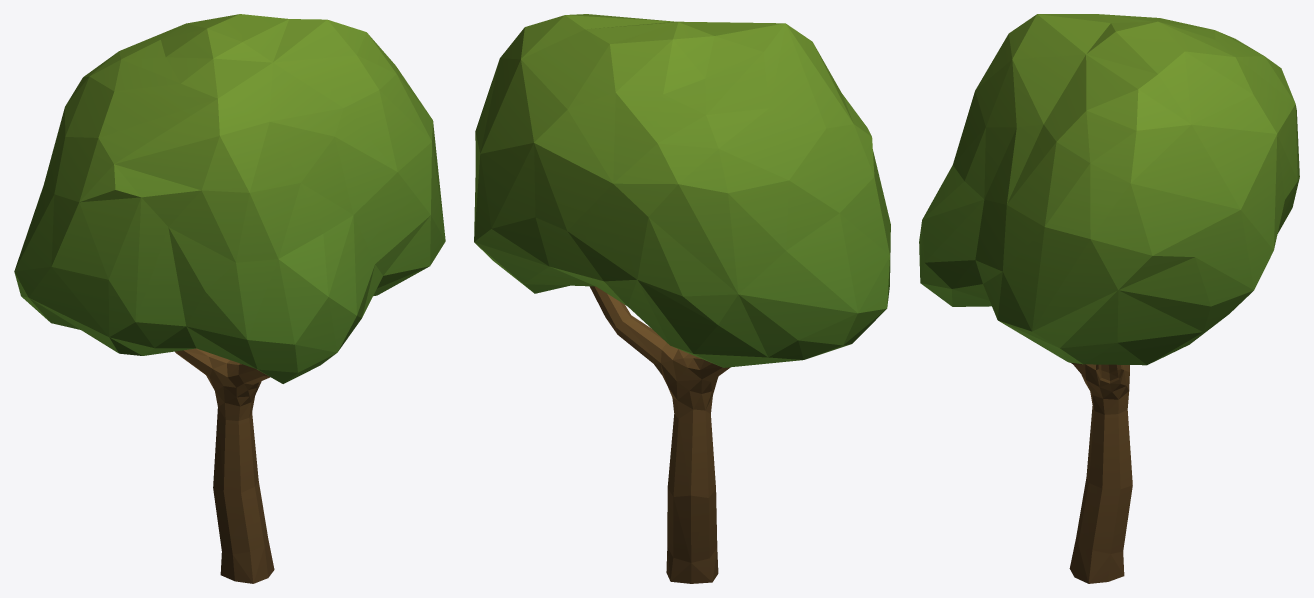
Rendered from Tree_06.glb.
3 views of the same model, side by side, from view 1: azimuth 30°, elevation 25°; view 2: azimuth 150°, elevation 25°; view 3: azimuth 270°, elevation 25° (orthographic). The views are drawn at different scales.
Parts seen in each view (by area): view 1: Tree_06_LOD0; view 2: Tree_06_LOD0; view 3: Tree_06_LOD0.
Part boxes in pixels (left/top/right/bottom): Tree_06_LOD0: left=14, top=14, right=445, bottom=583; Tree_06_LOD0: left=474, top=14, right=890, bottom=583; Tree_06_LOD0: left=919, top=14, right=1299, bottom=583.
Size of what is drawn, in the model's own units: 3.78 by 4.95 by 3.13.
Materials: 1 (1 with a texture image).
